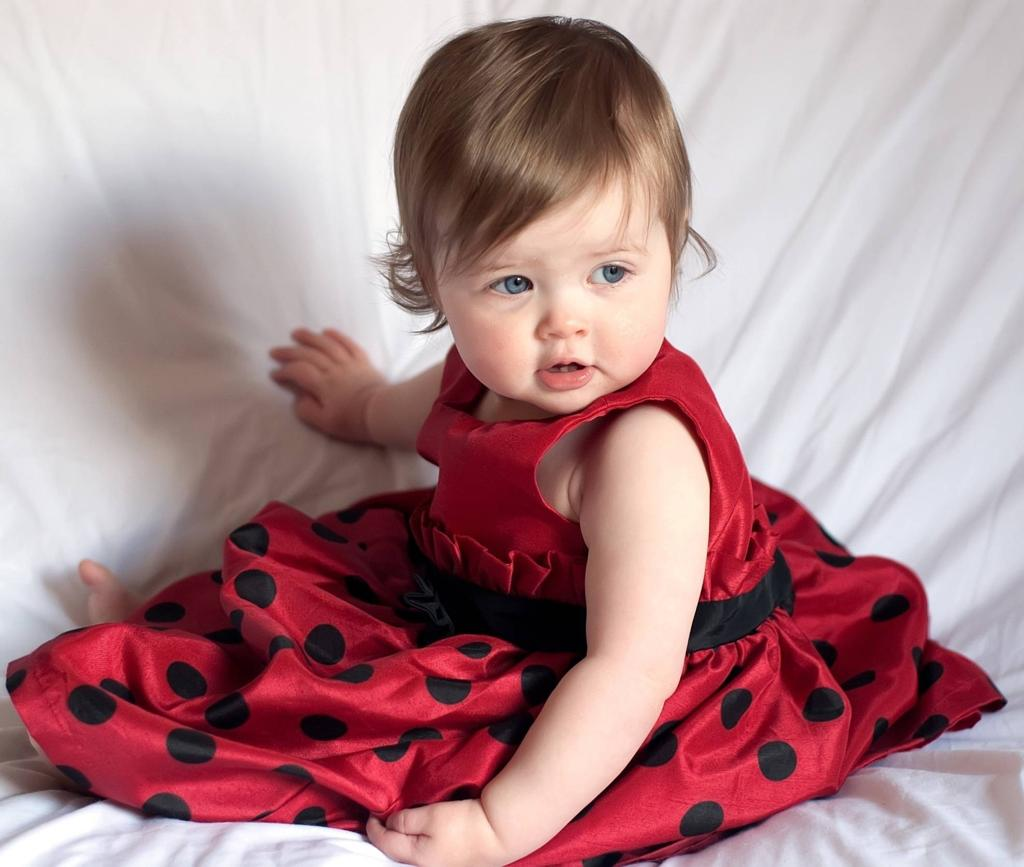face: (436, 122, 670, 410)
